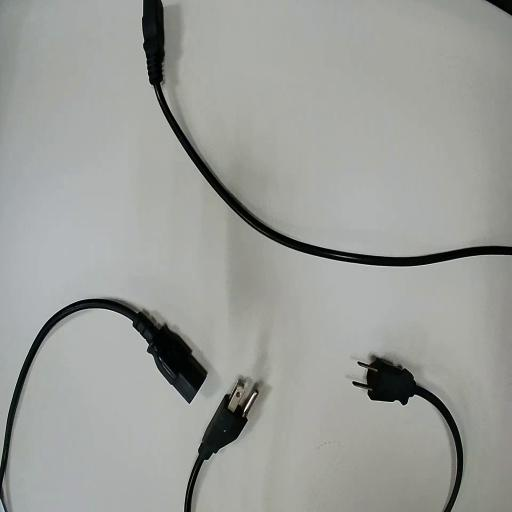wire: (143, 0, 511, 265), (0, 299, 205, 499), (354, 357, 462, 511), (185, 395, 247, 511)
